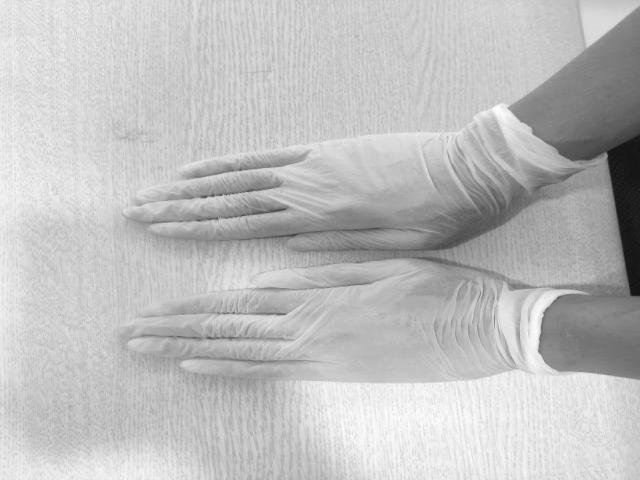gloved: (118, 255, 506, 384), (117, 129, 487, 251)
